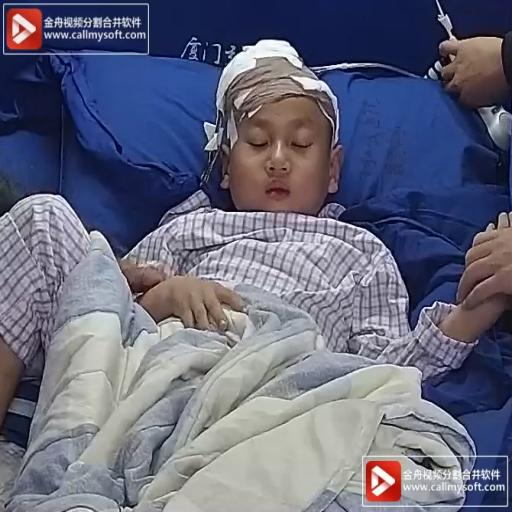Seizure: (211, 53, 349, 215)
